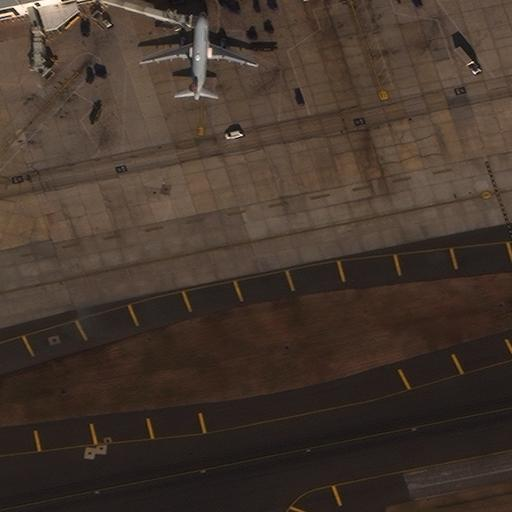Medium Civil Transport: (140, 11, 257, 100)
